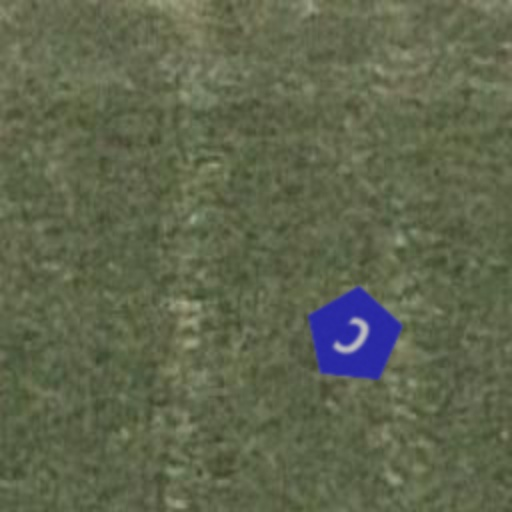pentagon: (286, 268, 422, 404)
